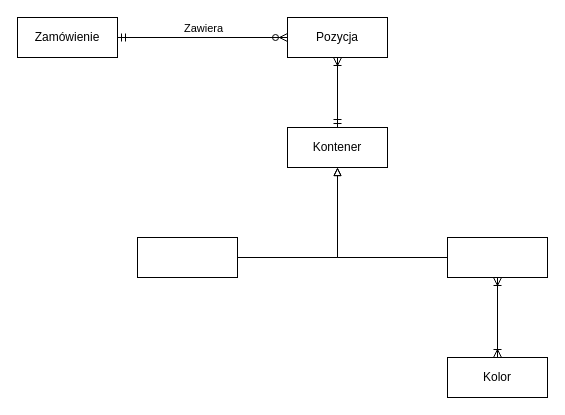
This 565x415 diagram has some shape labels left out. The shapes that lost their labels are listed below. From the top down, each one's centre as x and y in pixels, then its label:
At [187,257]: "Rożek".
At [497,257]: "Kubek".
